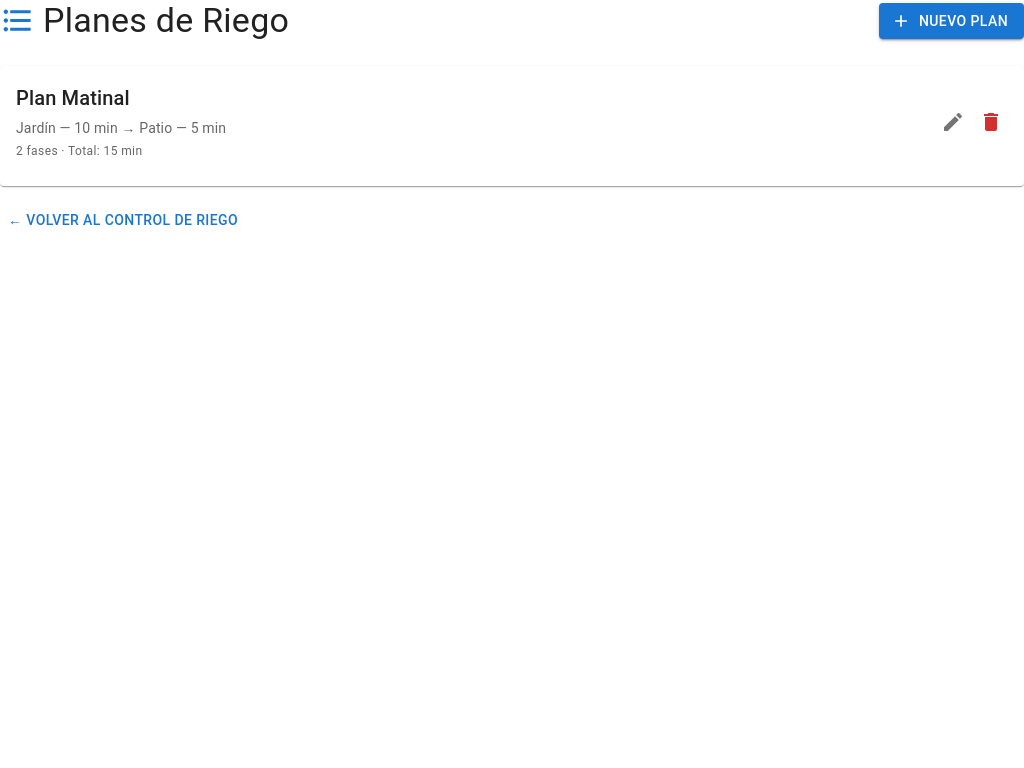
Scenario: RiegoPlansPage › edits existing plan
The image size is (1024, 768).
Check: the heading "Plan Matinal" is shown, box x1=16 y1=86 x2=130 y2=110
Step 1. Click the button with test id "EditIcon" → (953, 122), box x1=936 y1=105 x2=970 y2=139
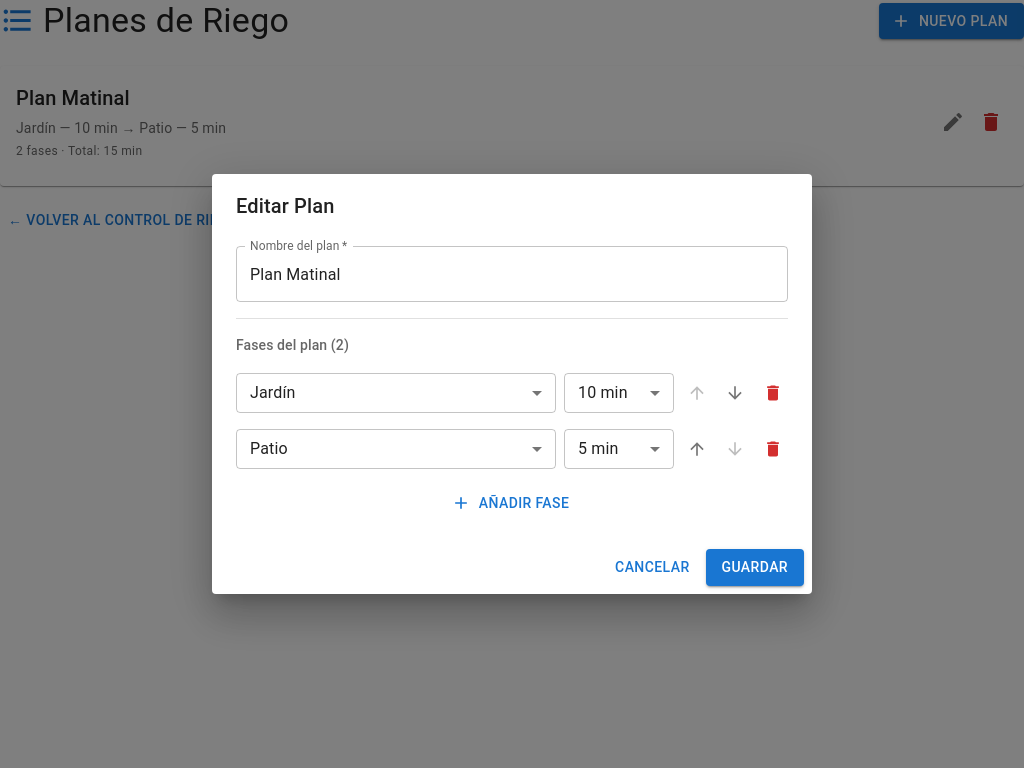
Check: the heading "Editar Plan" is shown, box x1=236 y1=194 x2=335 y2=218
Check: the field showing "Plan Matinal" is shown, box x1=236 y1=246 x2=788 y2=302
